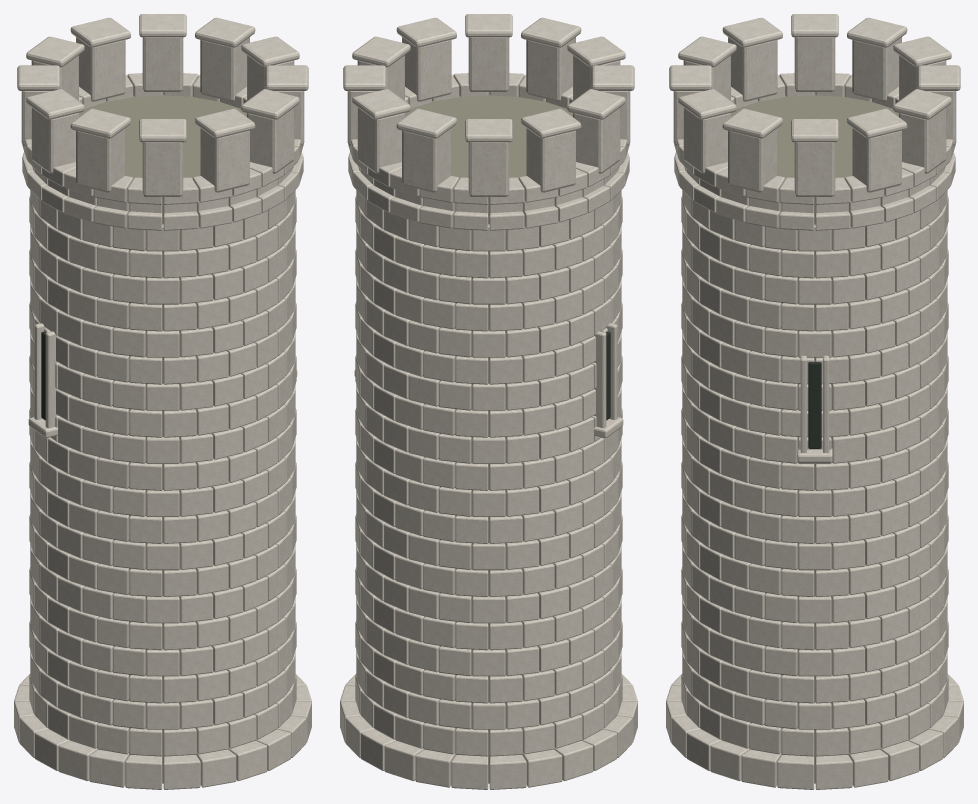
Rendered from tower_corner.glb.
3 renders of one model, left to right at view 1: azimuth 30°, elevation 25°; view 2: azimuth 150°, elevation 25°; view 3: azimuth 270°, elevation 25°, orthographic.
Parts seen in each view (by area): view 1: Dressed curved tower blocks, Tower battlements, Tower coping stones, Tower footing, Tower cornice bands, Round tower core, Arrow slit depth; view 2: Dressed curved tower blocks, Tower battlements, Tower coping stones, Tower footing, Tower cornice bands, Round tower core, Arrow slit depth; view 3: Dressed curved tower blocks, Tower battlements, Tower coping stones, Tower footing, Tower cornice bands, Round tower core, Arrow slit depth, Tower arrow slit.
Part boxes in pixels (left/top/right/bottom): Dressed curved tower blocks: left=29, top=166, right=296, bottom=756; Tower battlements: left=21, top=37, right=304, bottom=196; Tower coping stones: left=17, top=14, right=308, bottom=142; Tower footing: left=14, top=674, right=311, bottom=789; Tower cornice bands: left=22, top=73, right=303, bottom=230; Round tower core: left=79, top=92, right=246, bottom=783; Arrow slit depth: left=34, top=323, right=57, bottom=428; Dressed curved tower blocks: left=355, top=166, right=622, bottom=756; Tower battlements: left=347, top=37, right=630, bottom=196; Tower coping stones: left=343, top=14, right=634, bottom=142; Tower footing: left=340, top=674, right=637, bottom=789; Tower cornice bands: left=348, top=73, right=629, bottom=230; Round tower core: left=405, top=92, right=572, bottom=783; Arrow slit depth: left=594, top=323, right=617, bottom=428; Dressed curved tower blocks: left=681, top=166, right=948, bottom=756; Tower battlements: left=673, top=37, right=956, bottom=196; Tower coping stones: left=669, top=14, right=960, bottom=142; Tower footing: left=666, top=674, right=963, bottom=789; Tower cornice bands: left=674, top=73, right=955, bottom=230; Round tower core: left=731, top=92, right=898, bottom=783; Arrow slit depth: left=800, top=355, right=829, bottom=452; Tower arrow slit: left=808, top=362, right=821, bottom=448.
Bounding box in the file's own units: 2.51 × 6.09 × 2.51.
5 materials, 3 textured.
